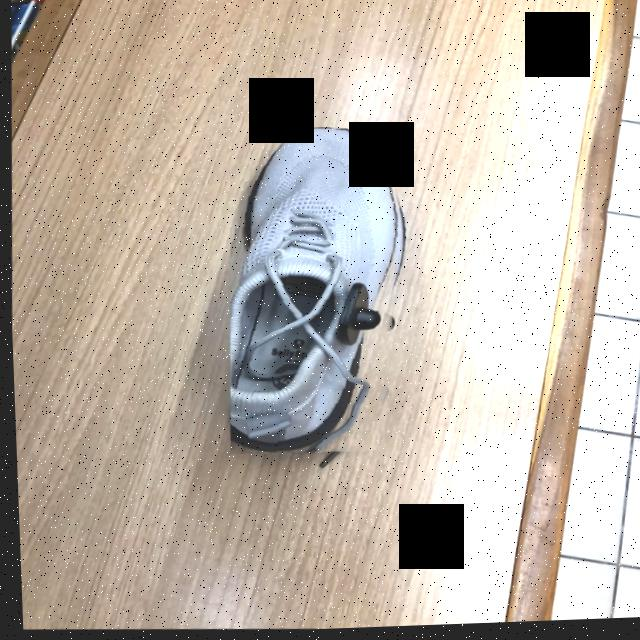shoe: (227, 130, 398, 455)
